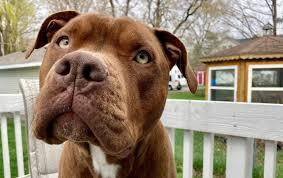Dog: (24, 8, 197, 161)
